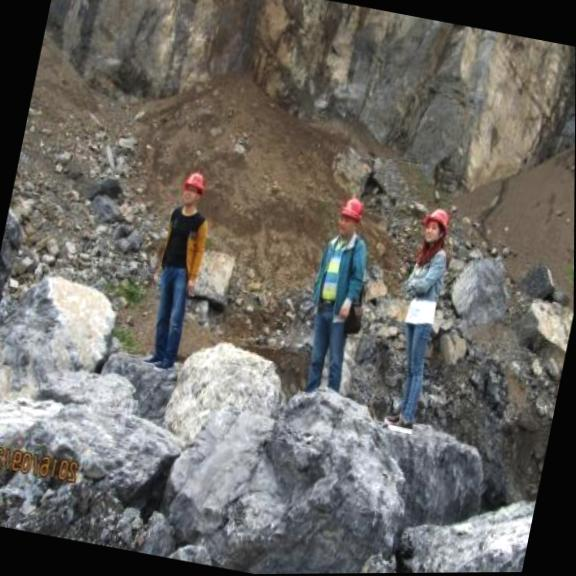no_safety_vest: (306, 228, 375, 320), (155, 201, 213, 283), (399, 242, 452, 331)
